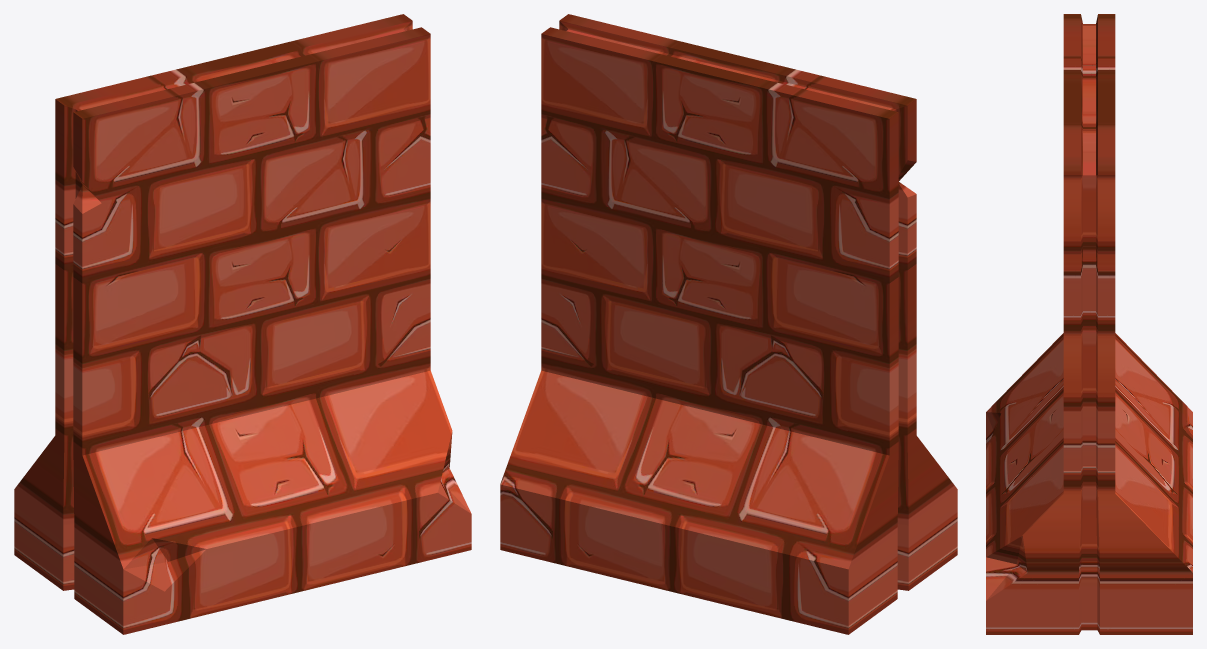
The model's file is BrickBarrier.fbx.
The picture shows the model from 3 angles, left to right: view 1: azimuth 30°, elevation 25°; view 2: azimuth 150°, elevation 25°; view 3: azimuth 270°, elevation 25°; orthographic projection. The views are drawn at different scales.
Parts seen in each view (by area): view 1: ConcreteBarrier_39_v2; view 2: ConcreteBarrier_39_v2; view 3: ConcreteBarrier_39_v2.
Boxes of the visible parts, x1,y1,x2,y2 form: ConcreteBarrier_39_v2: (14, 14, 471, 634); ConcreteBarrier_39_v2: (500, 14, 957, 634); ConcreteBarrier_39_v2: (986, 14, 1192, 634).
Bounding box in the file's own units: 150 × 200 × 81.5.
